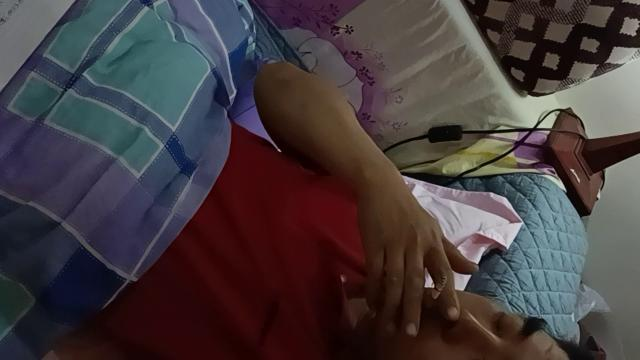Smoking: (426, 273, 448, 309)
